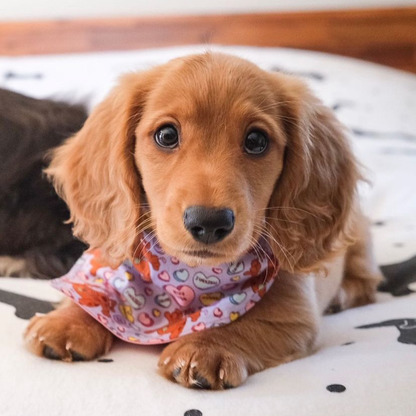dachshund: (64, 63, 383, 384)
